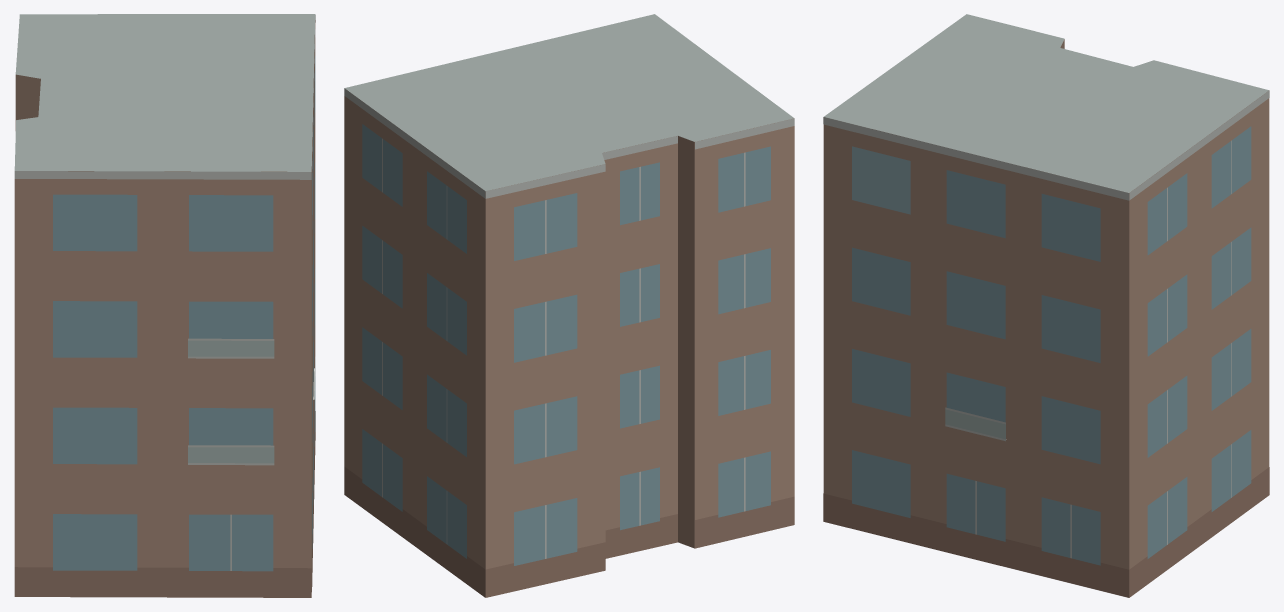
File: survey-upis-32674690.glb
3 views of the same model, side by side, from view 1: azimuth 30°, elevation 25°; view 2: azimuth 150°, elevation 25°; view 3: azimuth 270°, elevation 25° (orthographic). The views are drawn at different scales.
Parts seen in each view (by area): view 1: survey-upis-32674690.tmp; view 2: survey-upis-32674690.tmp; view 3: survey-upis-32674690.tmp.
Boxes of the visible parts, bbox=[...] form: survey-upis-32674690.tmp: bbox=[14, 14, 315, 597]; survey-upis-32674690.tmp: bbox=[344, 14, 794, 597]; survey-upis-32674690.tmp: bbox=[823, 14, 1269, 597].
Size of the model in its own units: 12.34 by 13 by 12.99.
